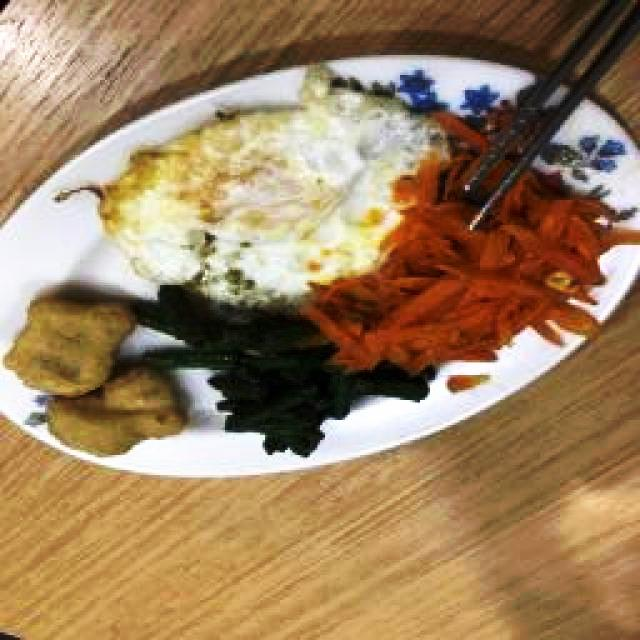carrot_eggs: (317, 110, 614, 367)
chicken_nuggets: (9, 298, 143, 399), (43, 365, 188, 456)
fried_eggs: (89, 78, 432, 319)
water_spinach: (130, 285, 429, 457)
